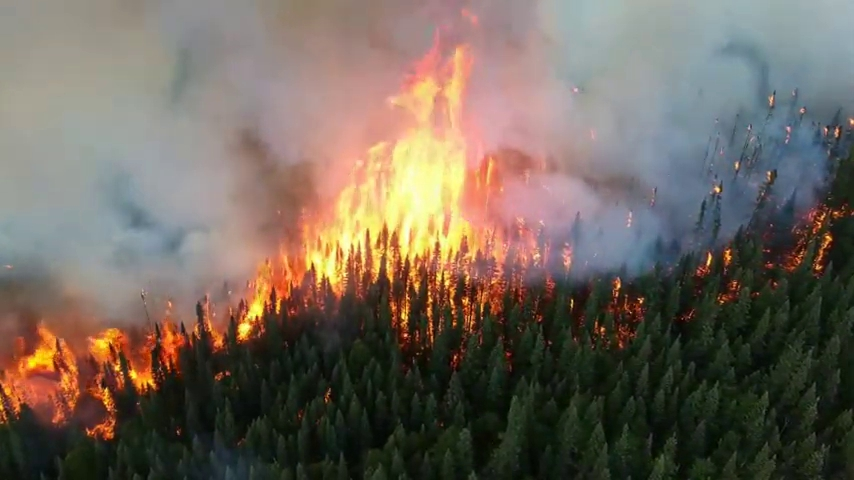forest_fire: (231, 39, 573, 341), (0, 303, 225, 438), (784, 207, 845, 272), (612, 278, 642, 317), (696, 249, 730, 278), (454, 299, 479, 317), (719, 279, 739, 300), (393, 303, 415, 320), (395, 324, 405, 336), (625, 212, 632, 227), (469, 14, 475, 20), (711, 192, 719, 195), (461, 281, 464, 284), (828, 132, 832, 134), (485, 297, 488, 299), (852, 123, 853, 125)
